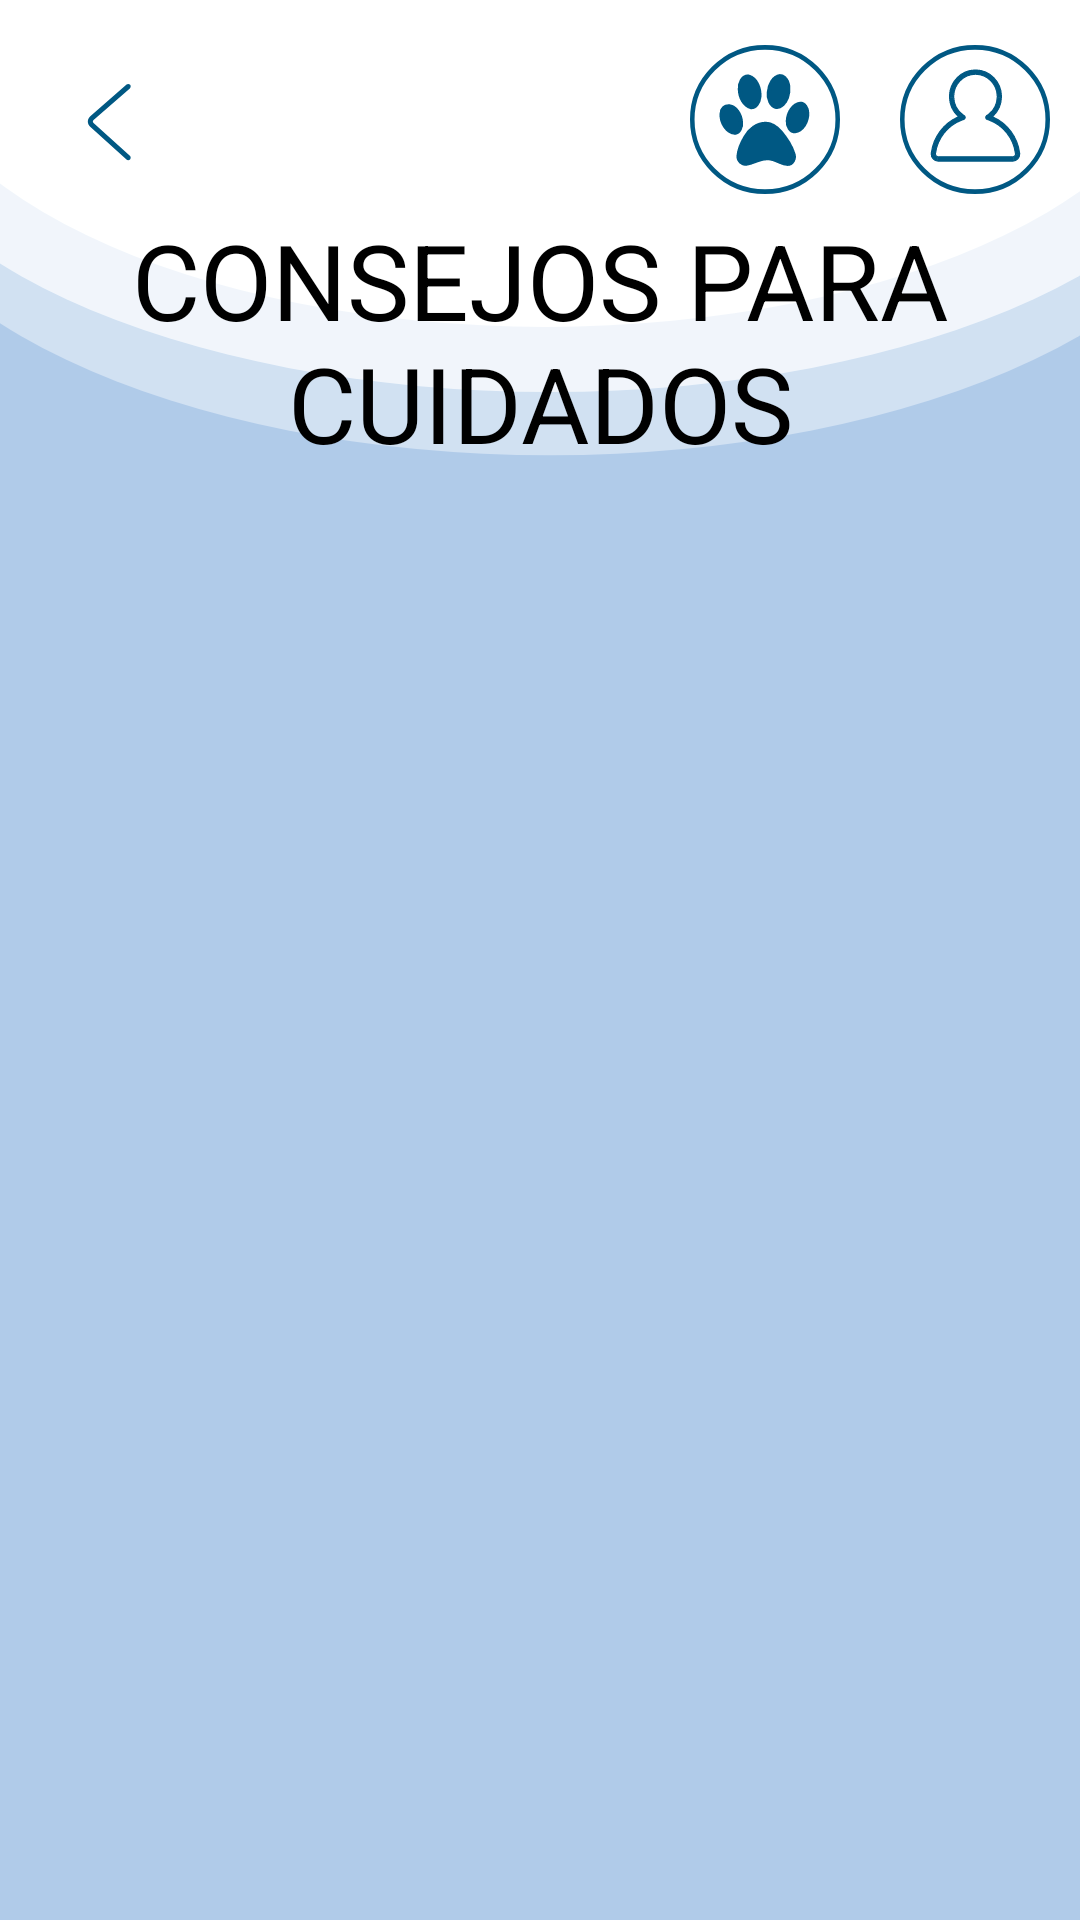

Icon bounding boxes for this 1080x1920 phone screenshot, format (x1, y1, x2, y2):
back arrow: (87, 84, 131, 161)
huella: (690, 45, 840, 194)
